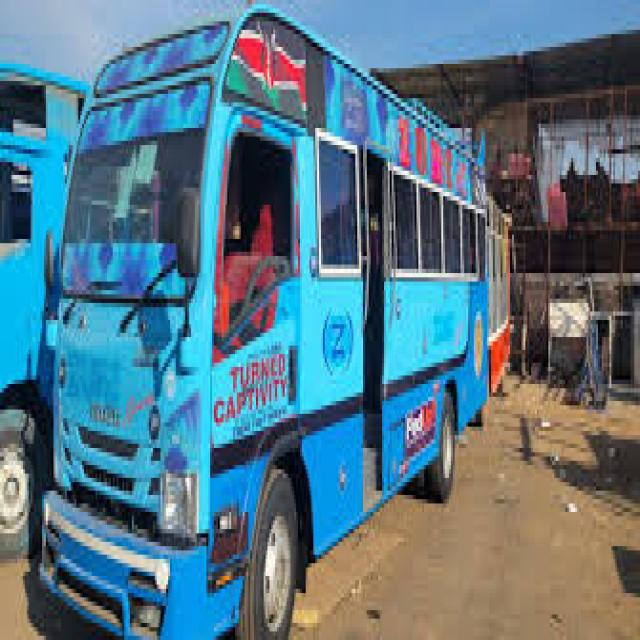bus: (22, 0, 500, 640)
